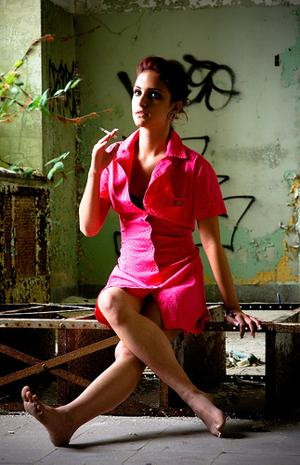person: (21, 54, 264, 457)
